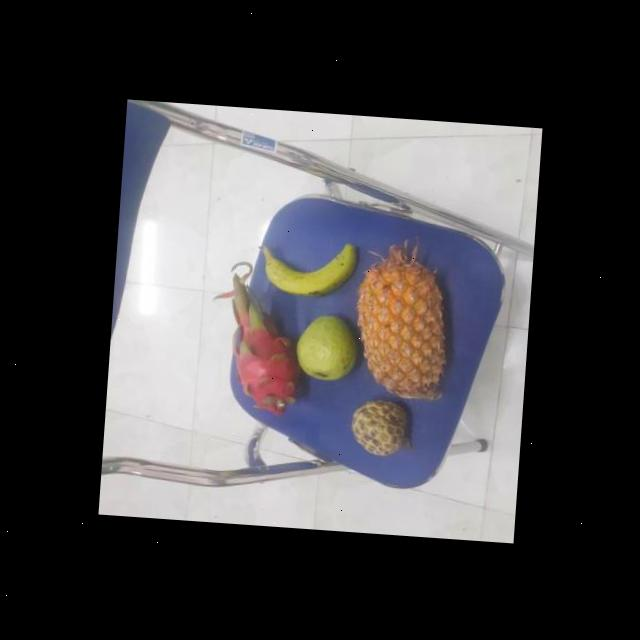Sakya fruit: (349, 393, 410, 458)
banana: (262, 232, 360, 299)
guava: (292, 309, 358, 383)
pineapple: (350, 249, 456, 397)
pitaya: (224, 288, 310, 413)
